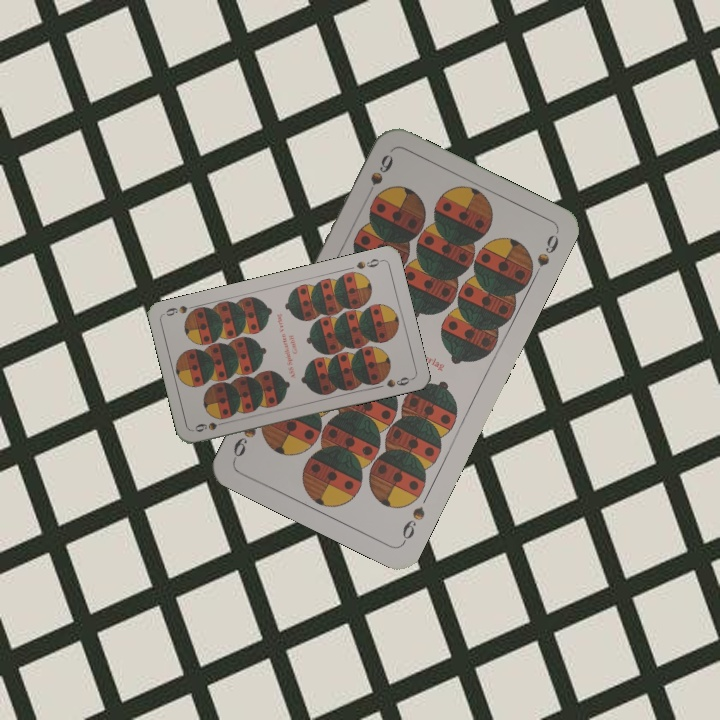S9: (361, 150, 396, 203), (398, 502, 428, 546), (190, 417, 231, 435), (352, 255, 385, 272)
